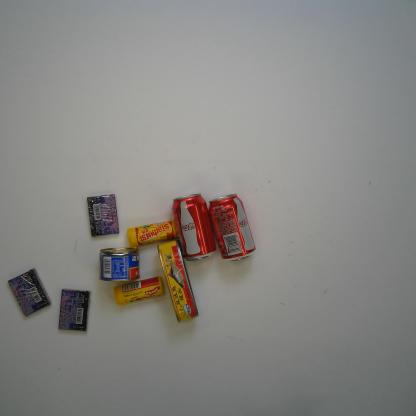Candy: (113, 275, 166, 308), (126, 220, 178, 250)
Canned Food: (156, 239, 200, 324), (98, 247, 141, 282)
Drink: (207, 193, 257, 263), (170, 193, 217, 263)
Gum: (7, 267, 53, 318), (86, 193, 121, 238), (57, 288, 92, 332)
